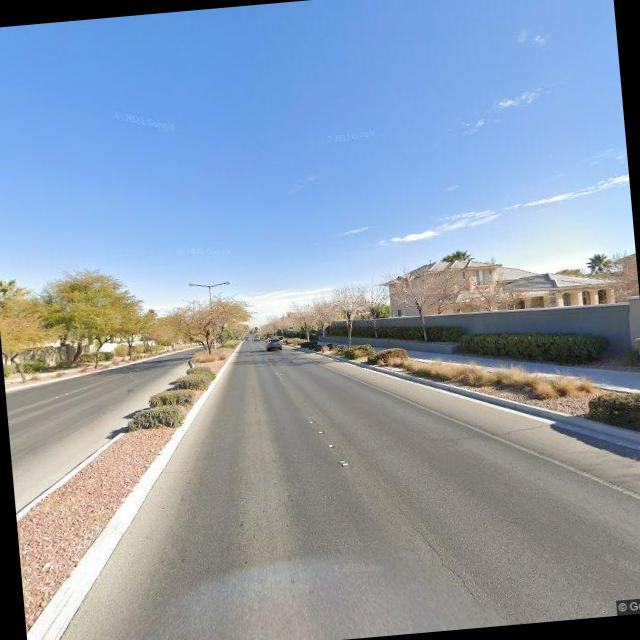pothole: (402, 508, 479, 610)
